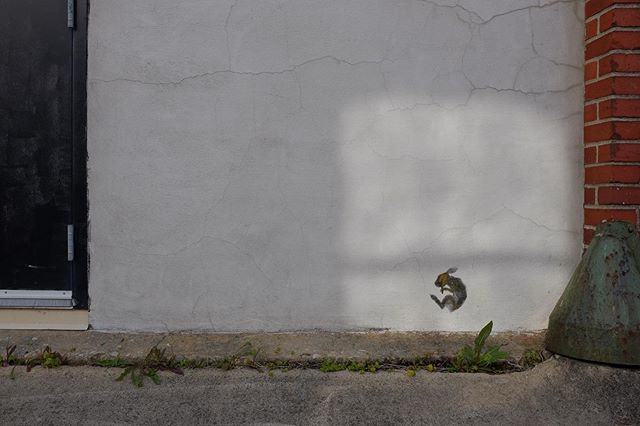door: (1, 1, 92, 305)
graffiti: (424, 266, 471, 314)
wall: (99, 1, 579, 330)
